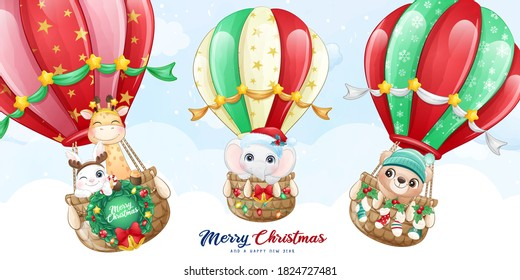animal: (363, 149, 432, 210), (95, 98, 134, 180), (68, 155, 114, 196)
elephant: (217, 134, 297, 181)
play: (371, 1, 507, 154), (196, 8, 321, 133)
star: (11, 94, 32, 111), (84, 53, 101, 71), (72, 26, 89, 43), (39, 69, 55, 87), (114, 55, 129, 72), (125, 9, 140, 23), (37, 20, 51, 34), (62, 9, 72, 18)
